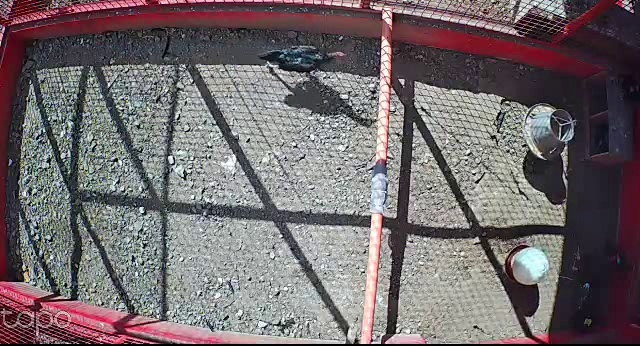Chicken: (259, 38, 348, 78)
Drinker: (502, 245, 554, 287)
Feeder: (521, 103, 580, 158)
Saddle_Color_Yellow: (584, 318, 593, 327)
